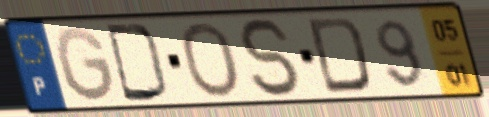9: (372, 16, 427, 90)
D: (102, 22, 172, 104), (305, 14, 375, 96)
G: (52, 24, 120, 105)
O: (177, 19, 245, 100)
S: (235, 15, 307, 100)
